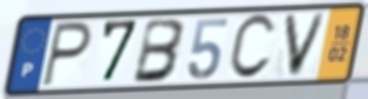5: (185, 16, 230, 83)
7: (100, 19, 140, 87)
B: (130, 17, 188, 86)
C: (225, 12, 278, 83)
P: (39, 20, 94, 90)
V: (281, 11, 330, 80)
